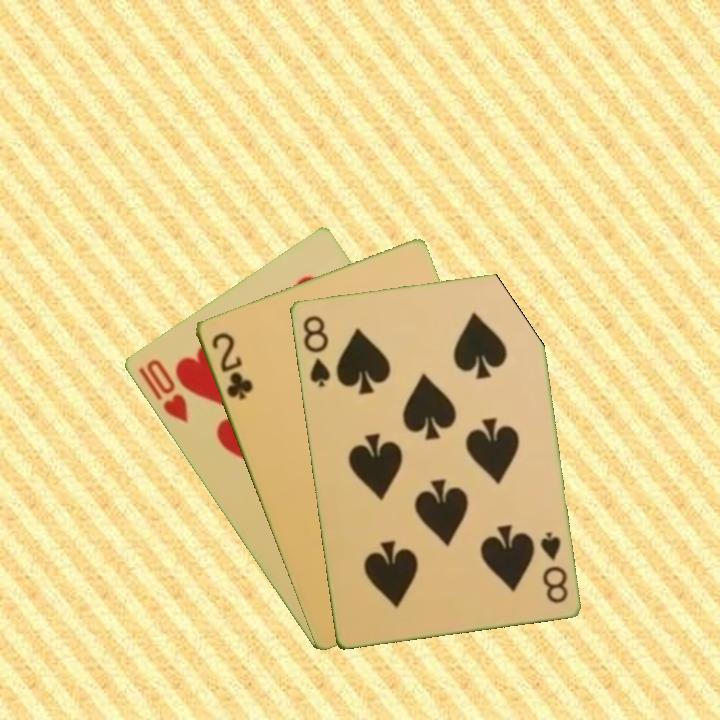10h: (142, 355, 191, 427)
2c: (207, 328, 256, 403)
8s: (299, 311, 333, 390), (536, 528, 570, 606)
